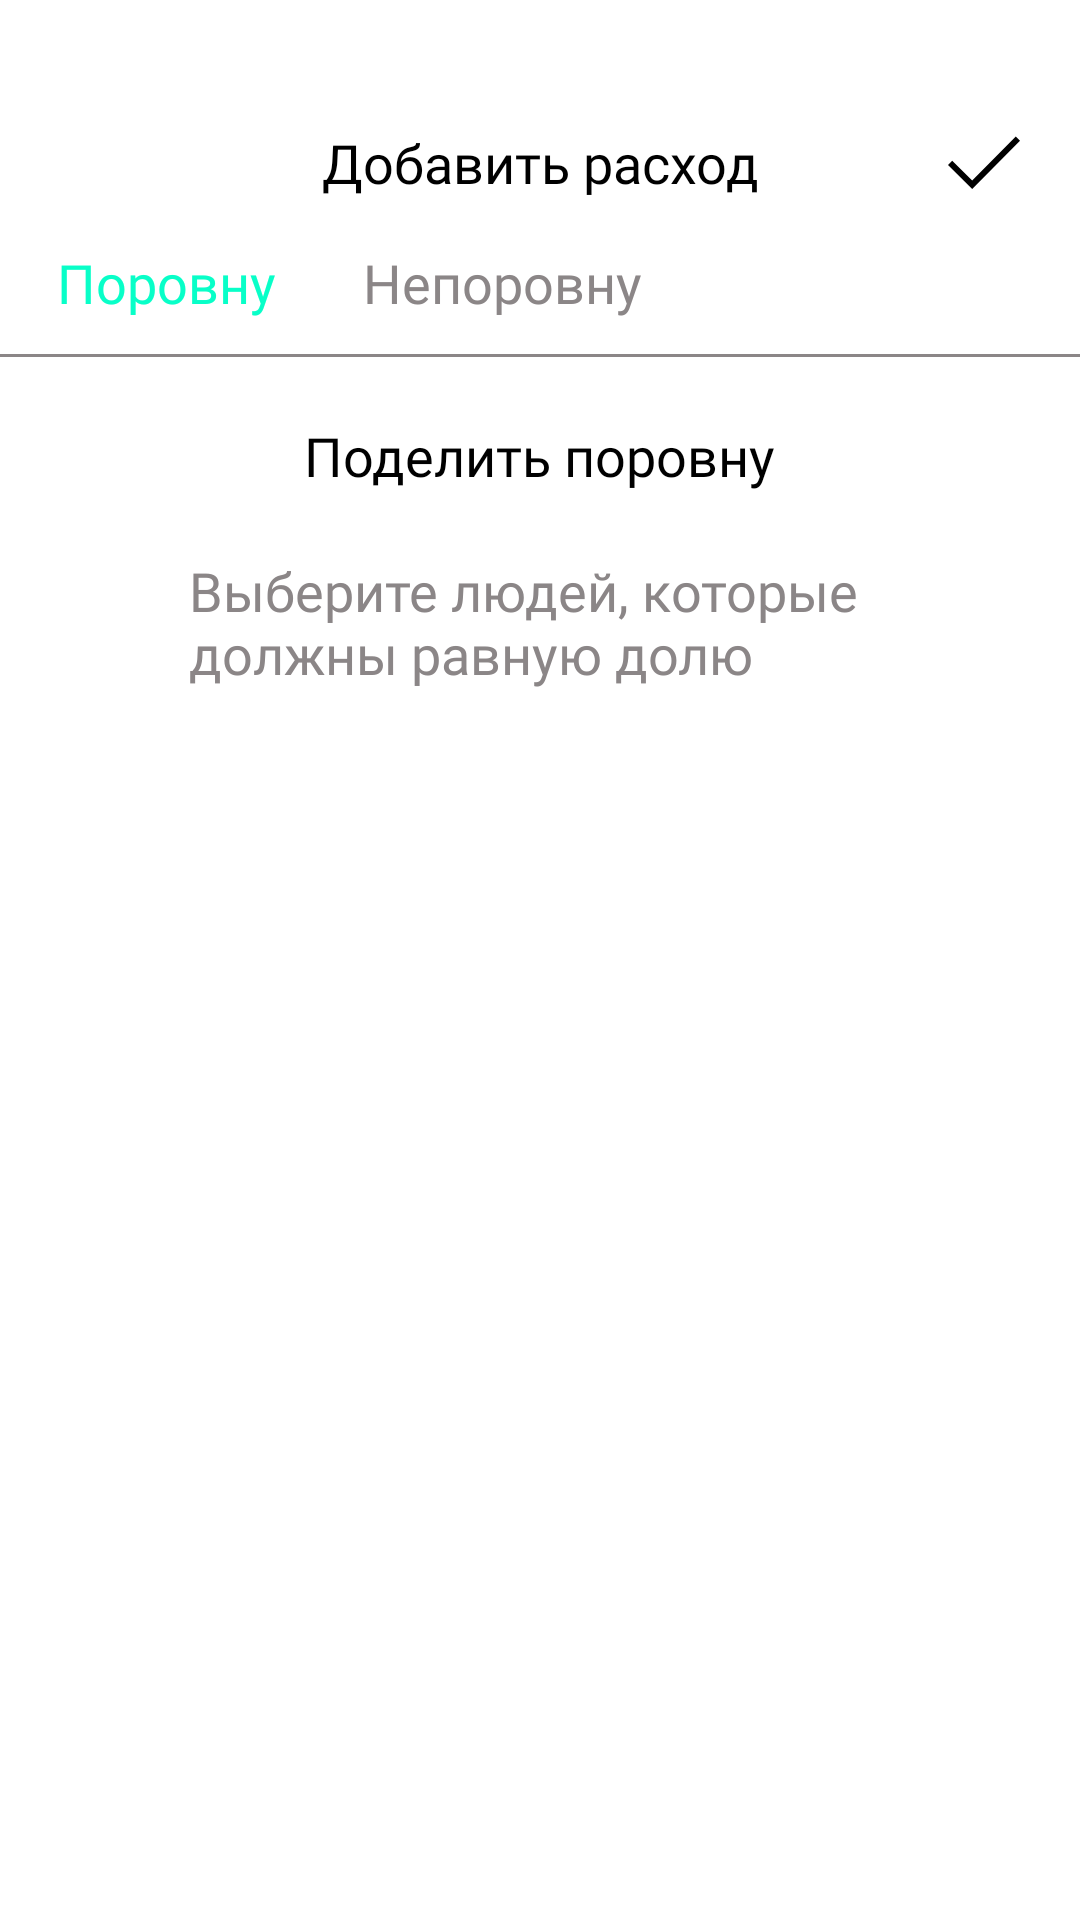

Screen size 1080px x 1920px. Icon name, then its center in pixels as (x=x, y=y):
done: (x=984, y=162)
